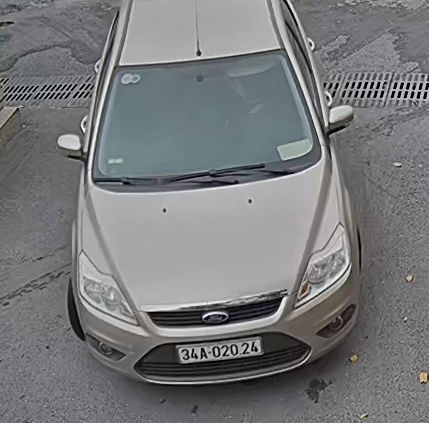vehicle plate: (176, 329, 266, 370)
